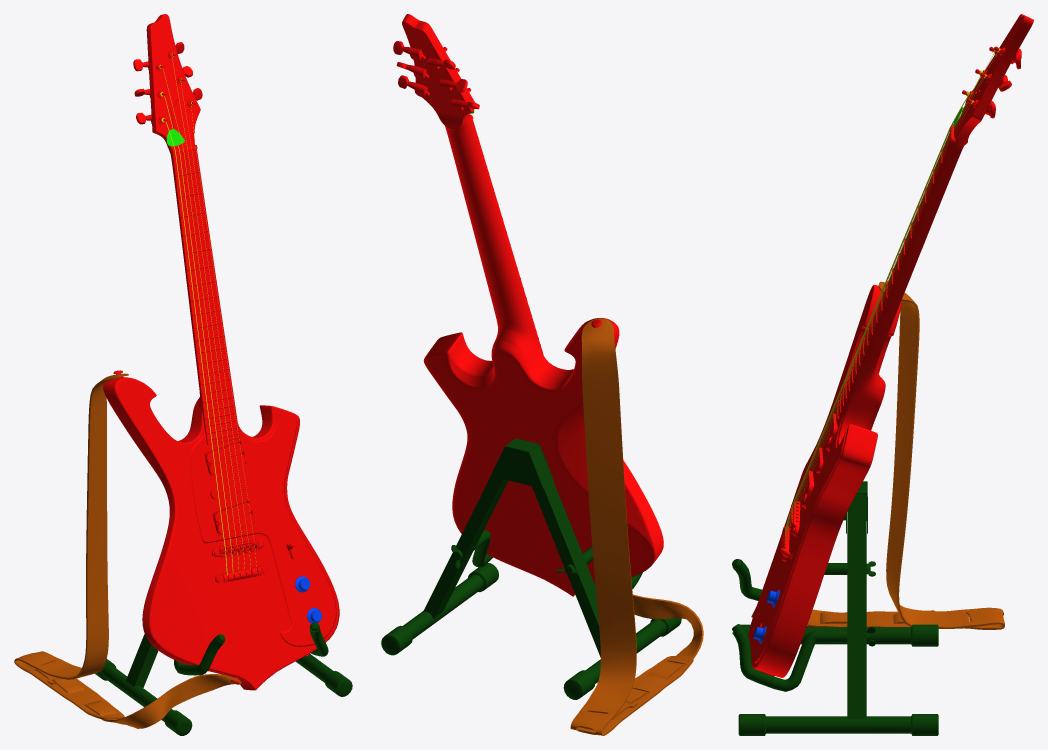
File: frm_mesh.obj
3 renders of one model, left to right at view 1: azimuth 30°, elevation 25°; view 2: azimuth 150°, elevation 25°; view 3: azimuth 270°, elevation 25°, orthographic. The views are drawn at different scales.
Parts seen in each view (by area): view 1: body, strap, stand, strings; view 2: body, strap, stand; view 3: body, stand, strap, strings.
Boxes of the visible parts, x1,y1,x2,y2 form: body: [103, 14, 339, 690]; strap: [14, 373, 241, 728]; stand: [95, 622, 352, 735]; strings: [159, 53, 256, 575]; body: [393, 14, 663, 596]; strap: [570, 318, 703, 735]; stand: [381, 438, 681, 699]; body: [748, 14, 1033, 677]; stand: [732, 481, 938, 735]; strap: [751, 281, 1004, 629]; strings: [785, 48, 1000, 545].
Size of what is drawn, in the model's own units: 39.95 by 103 by 41.06.
